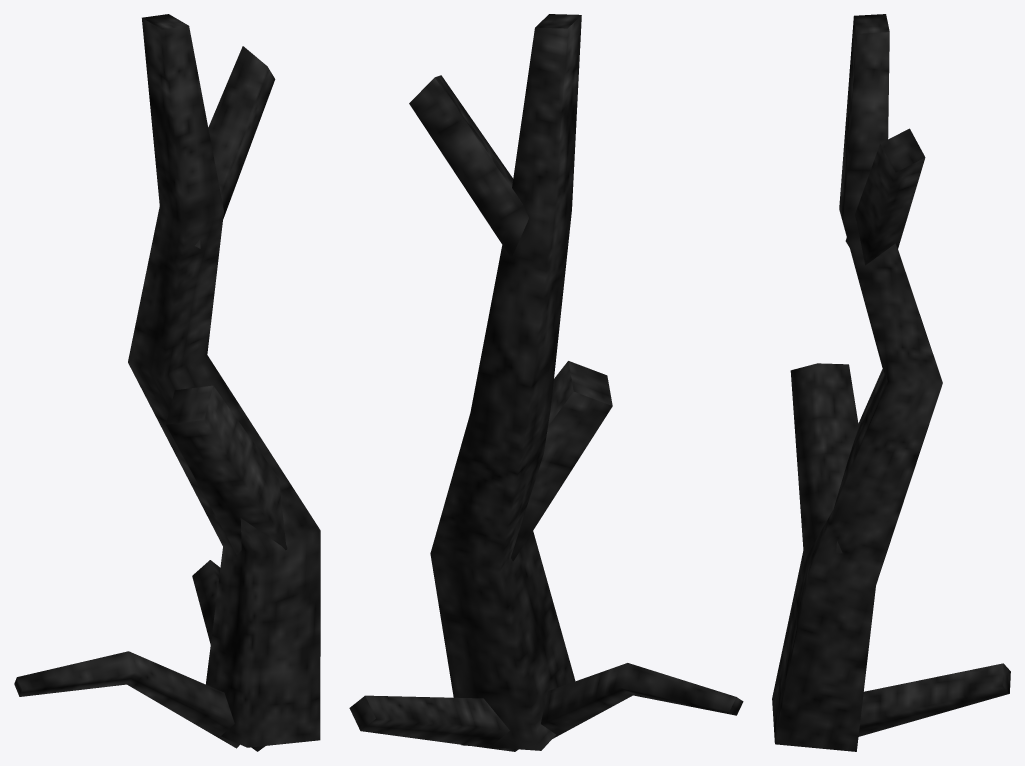
File: Medium_Tree_2_Future.fbx
The picture shows the model from 3 angles, left to right: view 1: azimuth 30°, elevation 25°; view 2: azimuth 150°, elevation 25°; view 3: azimuth 270°, elevation 25°; orthographic projection. The views are drawn at different scales.
Parts seen in each view (by area): view 1: Tree System.001; view 2: Tree System.001; view 3: Tree System.001.
Part boxes in pixels (bbox=[...]): Tree System.001: bbox=[14, 14, 320, 751]; Tree System.001: bbox=[349, 14, 743, 751]; Tree System.001: bbox=[772, 14, 1010, 751].
Bounding box in the file's own units: 778 × 1880 × 586.
